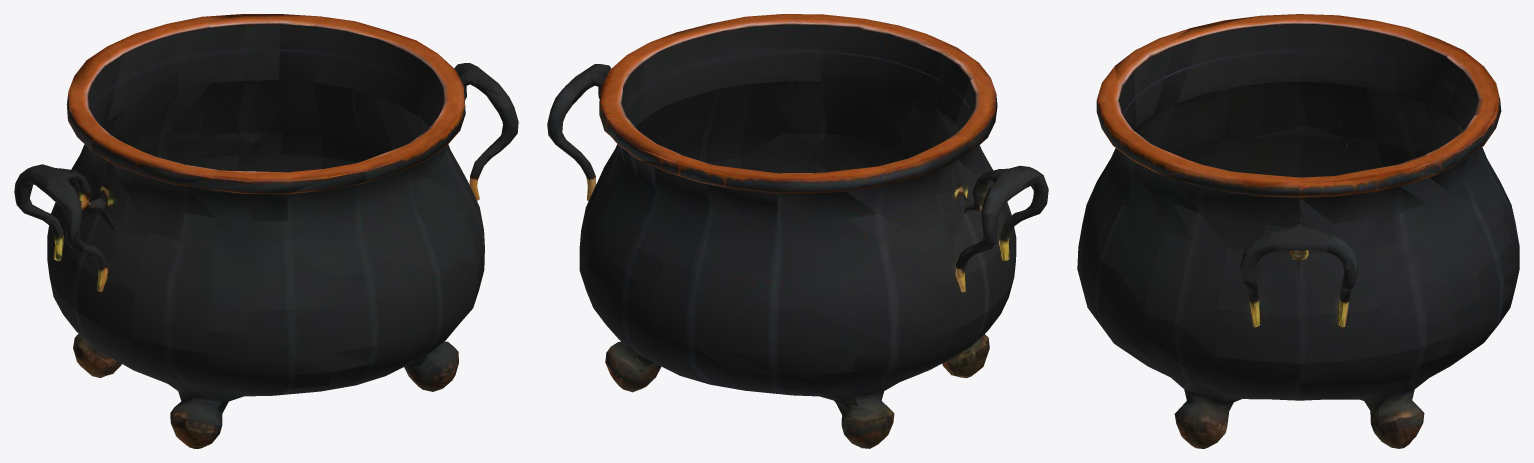
The model's file is cauldron.glb.
The picture shows the model from 3 angles, left to right: view 1: azimuth 30°, elevation 25°; view 2: azimuth 150°, elevation 25°; view 3: azimuth 270°, elevation 25°; orthographic projection.
Size of the model in its own units: 0.9722 by 0.6 by 0.824.
1 material, 1 textured.
